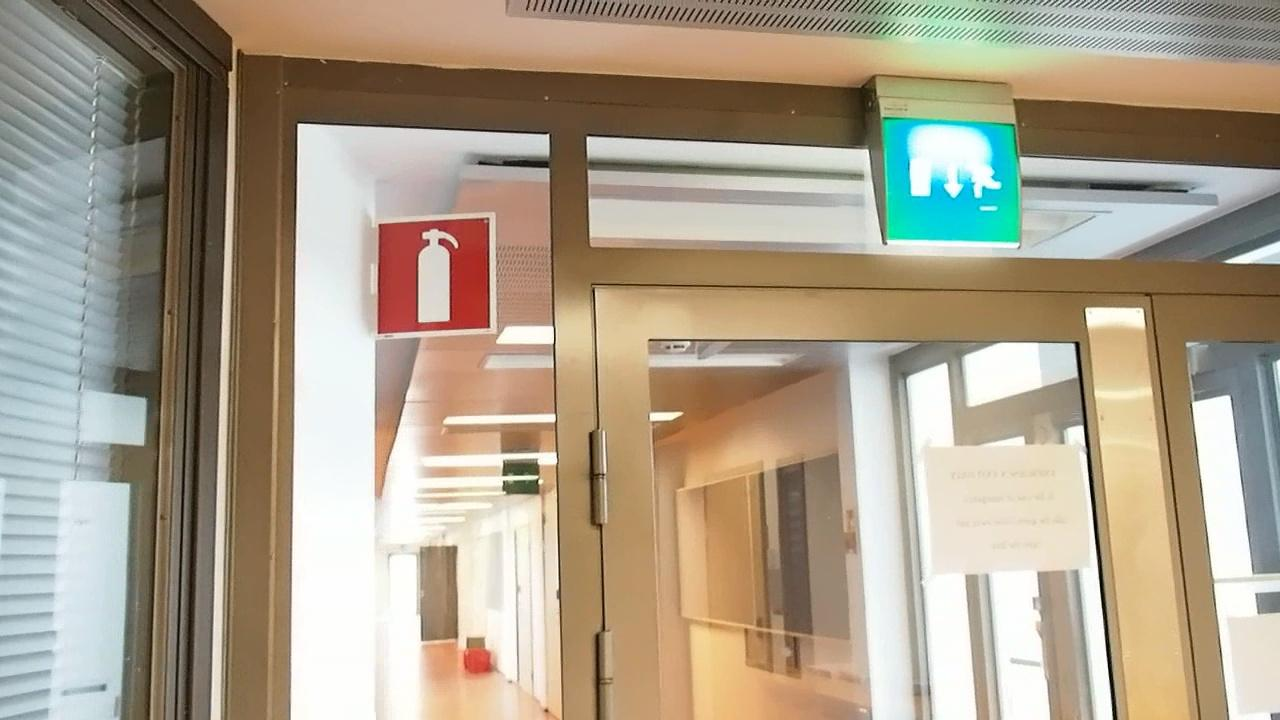exit: (889, 112, 1025, 245)
fireextinguisher: (374, 218, 490, 336)
